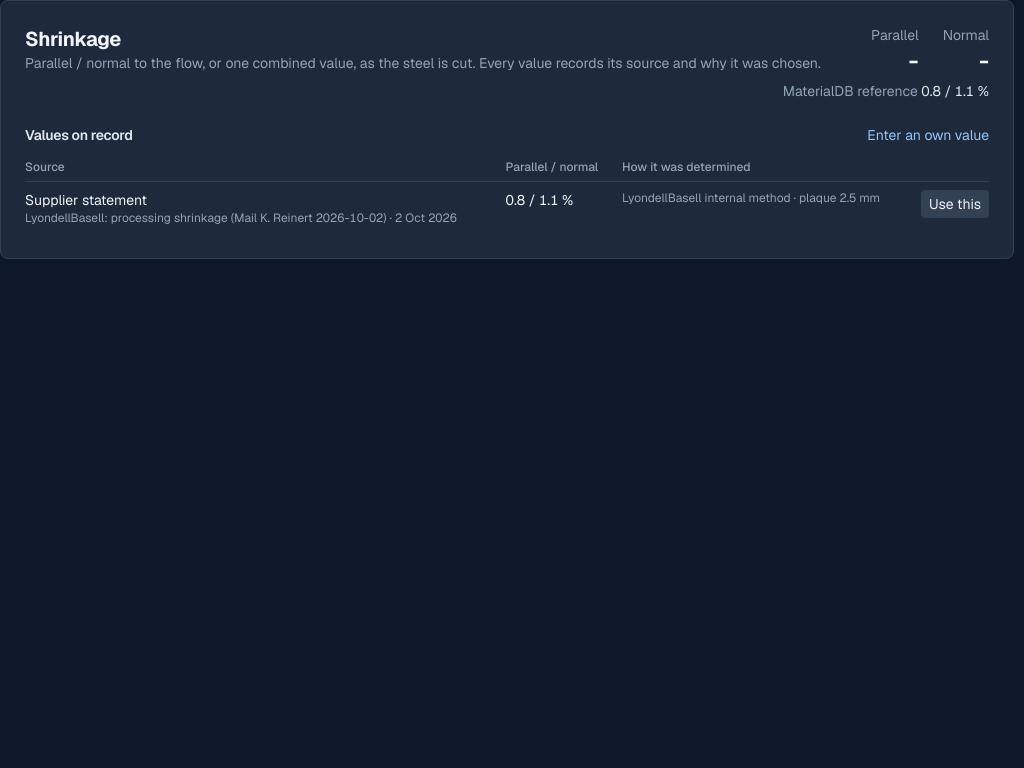
Scenario: ToolShrinkCard › shows each value with its source and records a decision with a reason
Later steps or results of the test are not shown.
Expected: the element with test id "shrink-reference" reads "MaterialDB reference 0.8 / 1.1 %", [783,82,989,100]
Expected: the row with test id "shrink-candidate" shows "Supplier statement", [25,191,147,209]
Step 1. Click the button "Use this" → (955, 204), box [921,190,989,218]
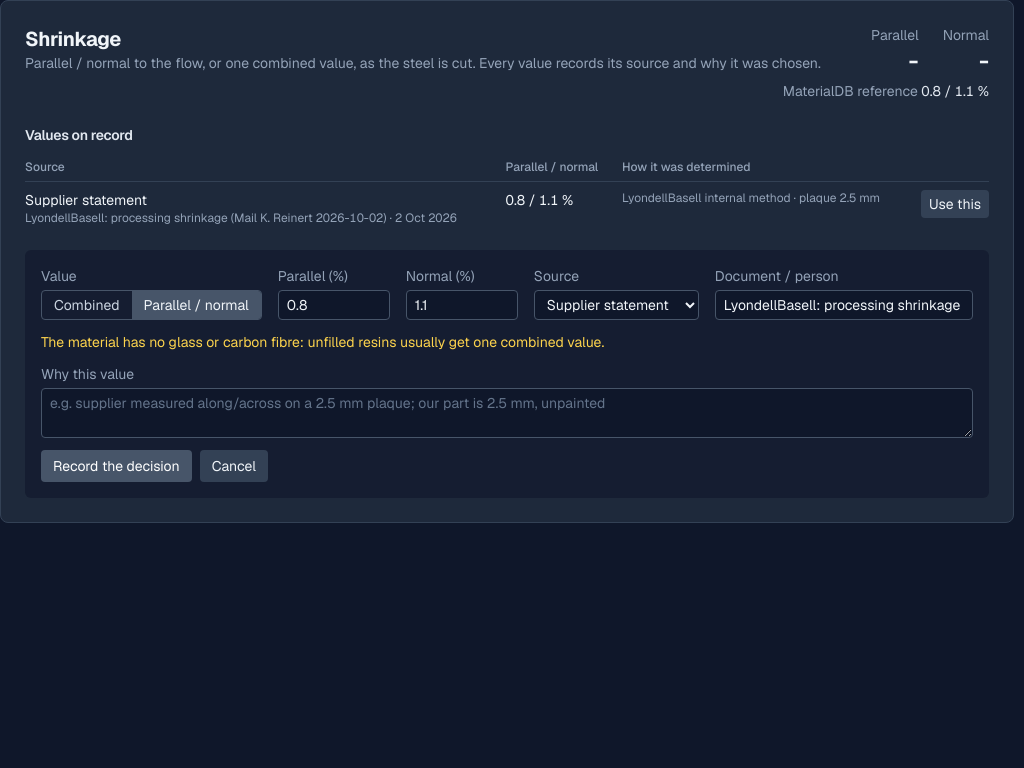
Expected: the button with test id "shrink-decide-save" is disabled, [41,450,192,482]
